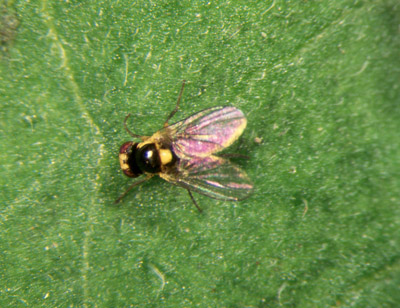Trifoli: (105, 69, 260, 231)
